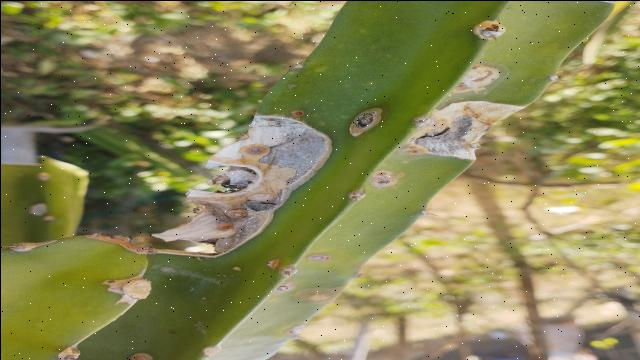stemcanker: (122, 348, 158, 360), (304, 252, 334, 266), (288, 106, 310, 121), (274, 282, 296, 296)
